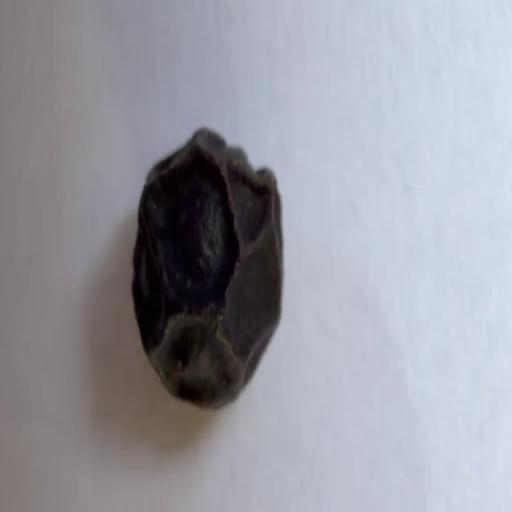Black_pepper: (122, 113, 298, 422)
